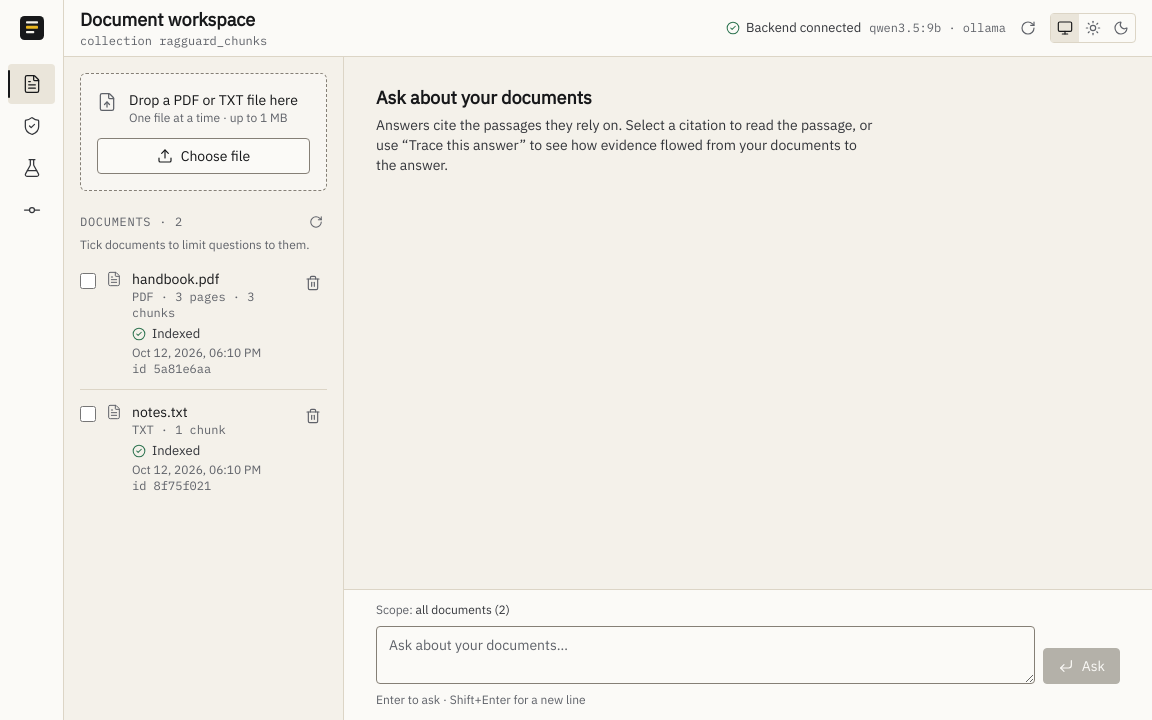
Test: conversations are separated by document context › delivers a pending answer to its own conversation after the document context changed
Type "Slow question?" into the text box named "Question" at coordinates (705, 655), box x1=376 y1=626 x2=1035 y2=684
Then press Enter
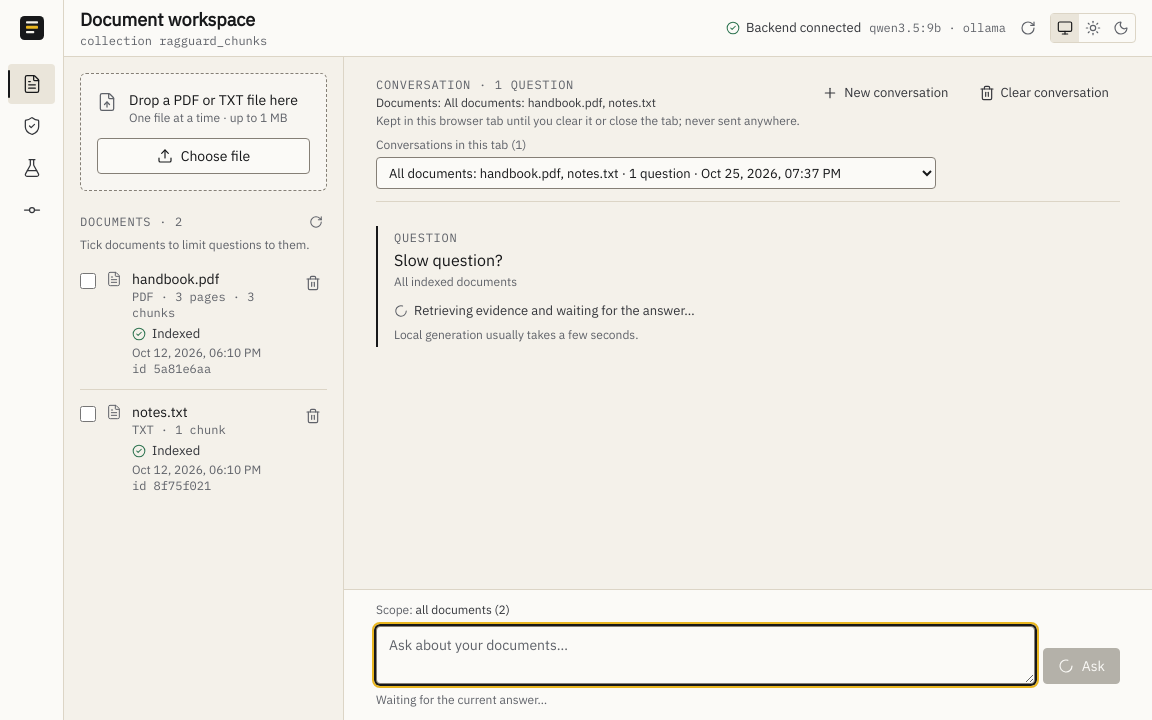
Now the text "Retrieving evidence and waiting for the answer…" is shown, box x1=414 y1=302 x2=695 y2=320
Click the checkbox named "Limit questions to notes.txt" at coordinates (88, 414), box x1=80 y1=406 x2=96 y2=422
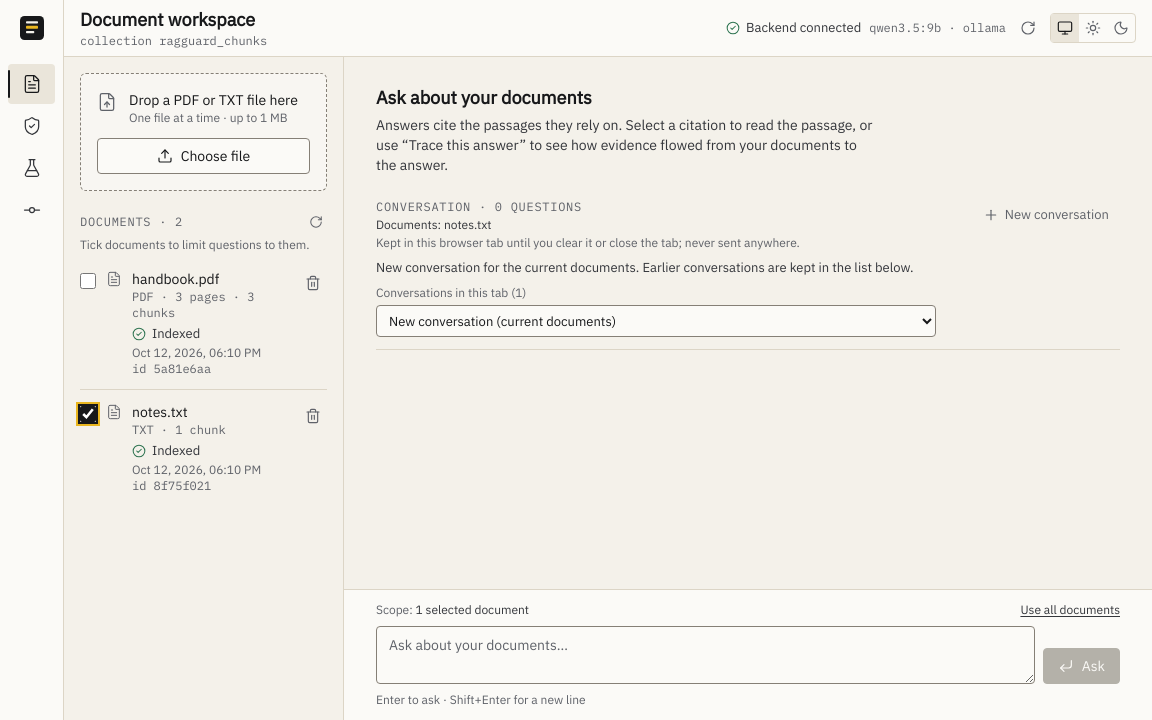
Type "Notes question?" into the text box named "Question" at coordinates (705, 655), box x1=376 y1=626 x2=1035 y2=684
Then press Enter
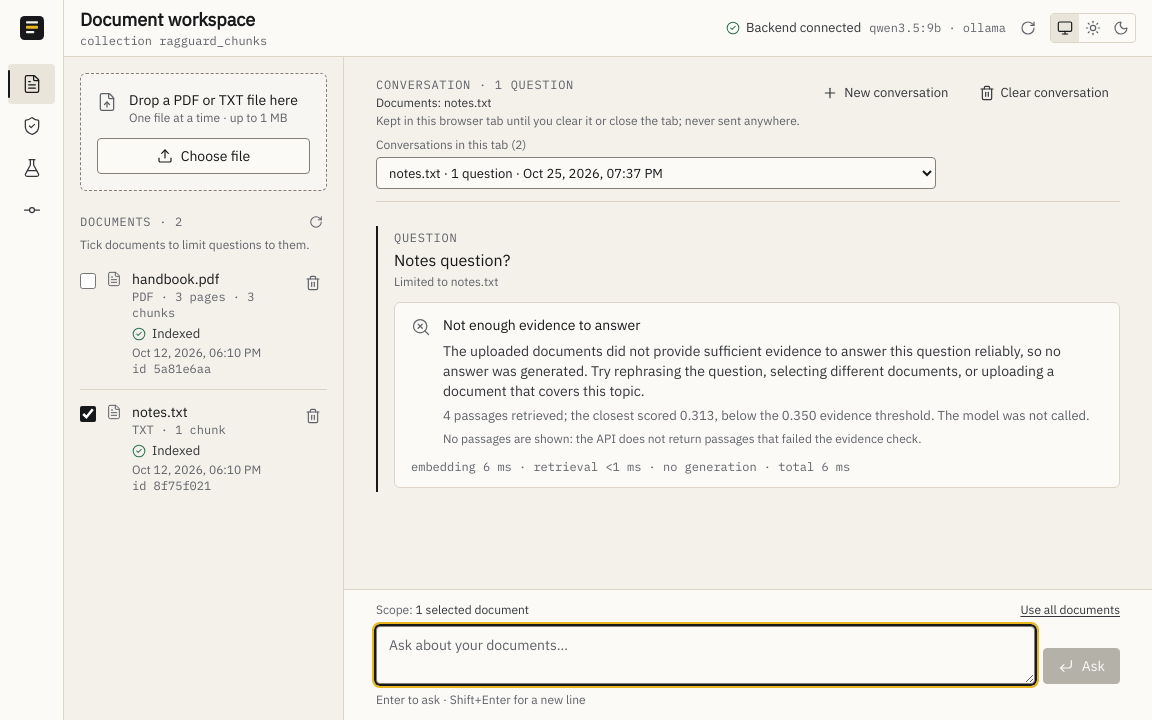
Now the element named "Insufficient evidence" is shown, box x1=394 y1=302 x2=1120 y2=488
Click the checkbox named "Limit questions to notes.txt" at coordinates (88, 414), box x1=80 y1=406 x2=96 y2=422
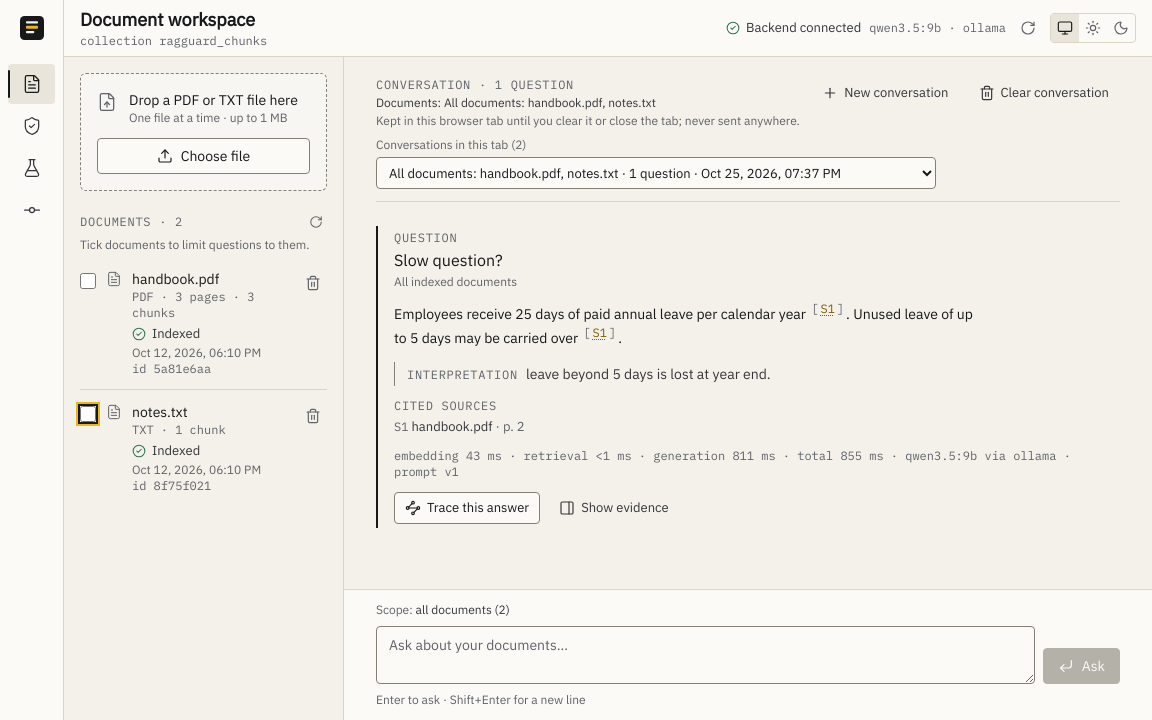
Now the element named "Answer" shows "Employees receive 25 days", box x1=394 y1=305 x2=809 y2=323
